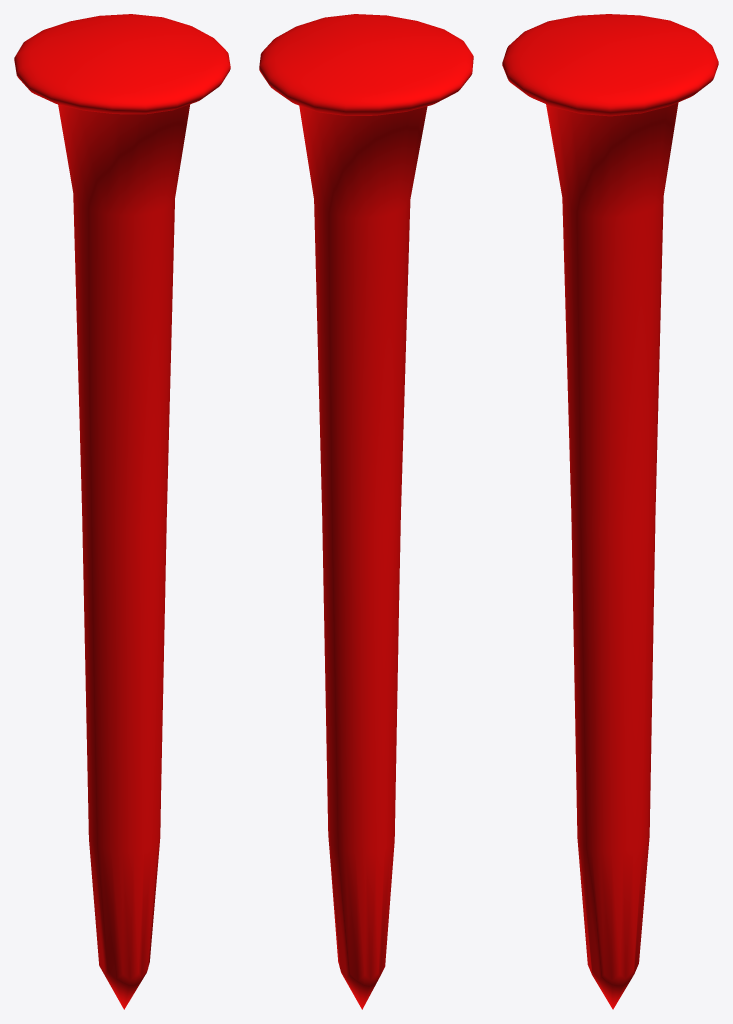
File: Nail.fbx
3 views of the same model, side by side, from view 1: azimuth 30°, elevation 25°; view 2: azimuth 150°, elevation 25°; view 3: azimuth 270°, elevation 25° (orthographic).
Parts seen in each view (by area): view 1: Clou; view 2: Clou; view 3: Clou.
Part boxes in pixels (x1=…): Clou: x1=14, y1=14, x2=230, y2=1009; Clou: x1=259, y1=14, x2=473, y2=1009; Clou: x1=502, y1=14, x2=718, y2=1009.
Bounding box in the file's own units: 1.56 × 7.67 × 1.56.
